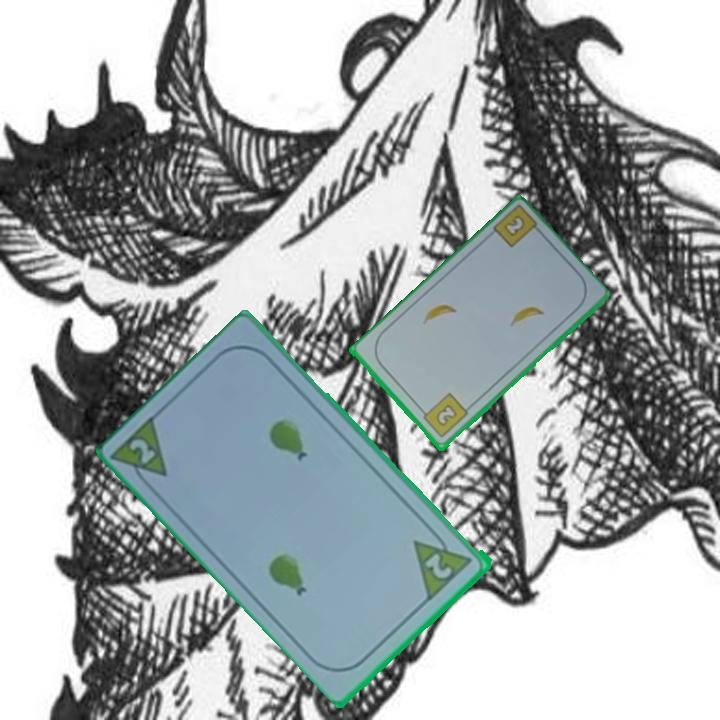2b: (416, 390, 471, 441), (500, 212, 528, 240)
2p: (410, 523, 476, 602), (110, 411, 171, 495)
